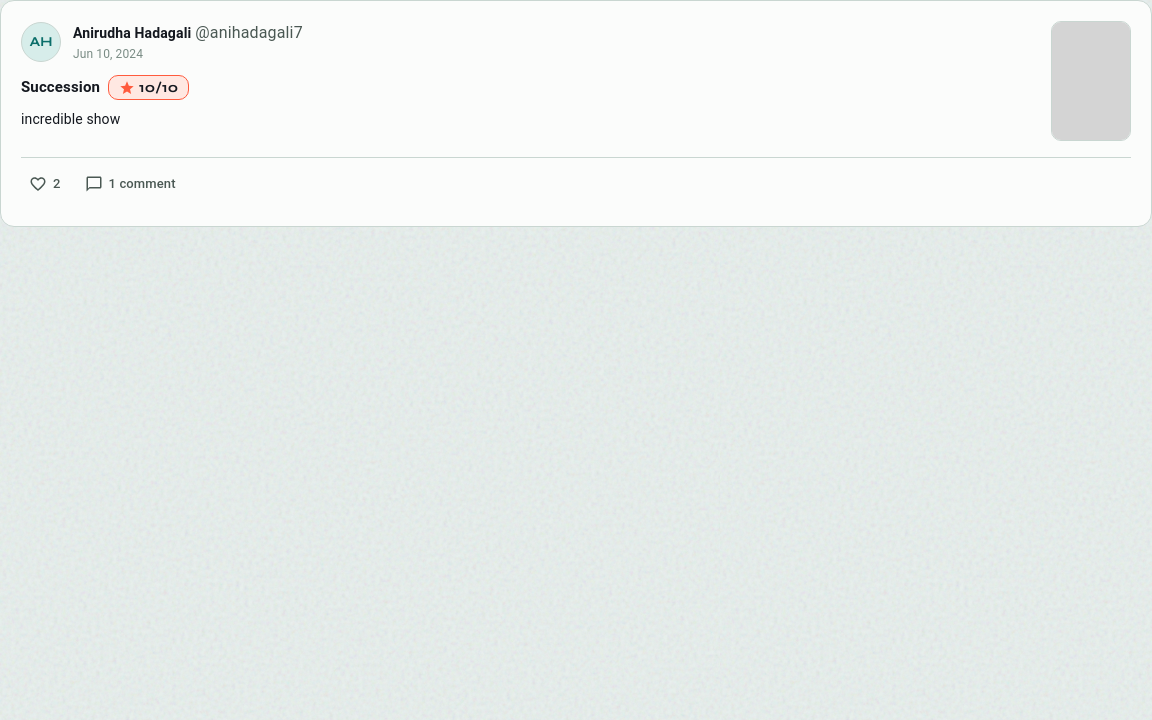
Scenario: RatingCard › likes a rating when signed in
Click the button named "like" at (45,184), box [21,170,68,198]
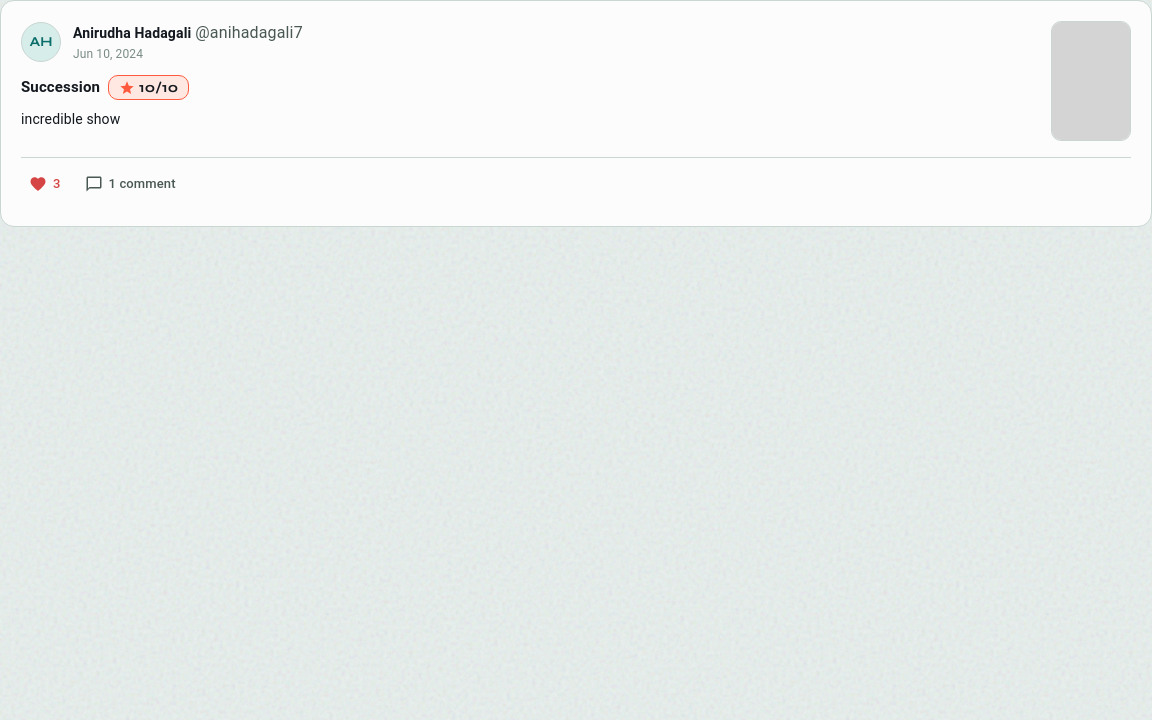
Check: the button named "unlike" is shown, box [21,170,68,198]
Check: the text "3" is shown, box [53,174,60,194]
